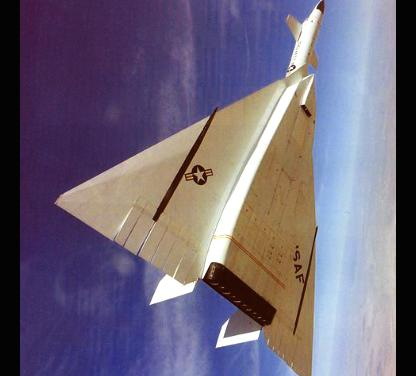U2: (53, 0, 327, 373)
